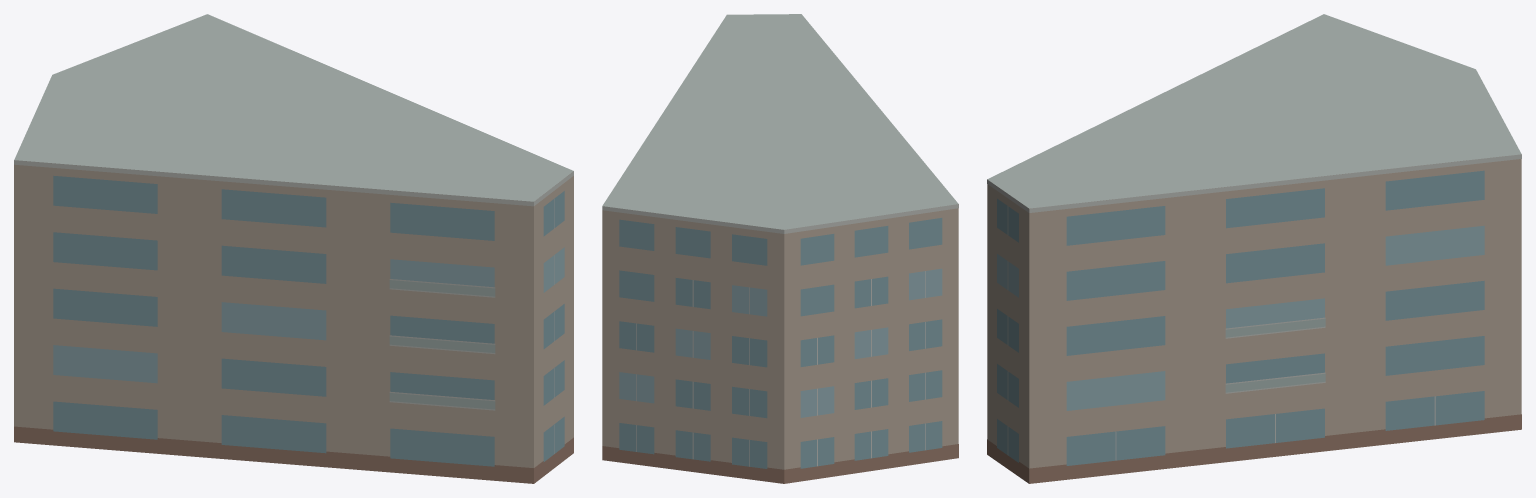
File: survey-upis-32962617.glb
The picture shows the model from 3 angles, left to right: view 1: azimuth 30°, elevation 25°; view 2: azimuth 150°, elevation 25°; view 3: azimuth 270°, elevation 25°; orthographic projection. The views are drawn at different scales.
Parts seen in each view (by area): view 1: survey-upis-32962617.tmp; view 2: survey-upis-32962617.tmp; view 3: survey-upis-32962617.tmp.
Boxes of the visible parts, <box> form: survey-upis-32962617.tmp: <box>14,14,573,483</box>; survey-upis-32962617.tmp: <box>602,14,958,483</box>; survey-upis-32962617.tmp: <box>987,14,1521,483</box>.
Size of the model in its own units: 22.59 by 14.9 by 26.23.
